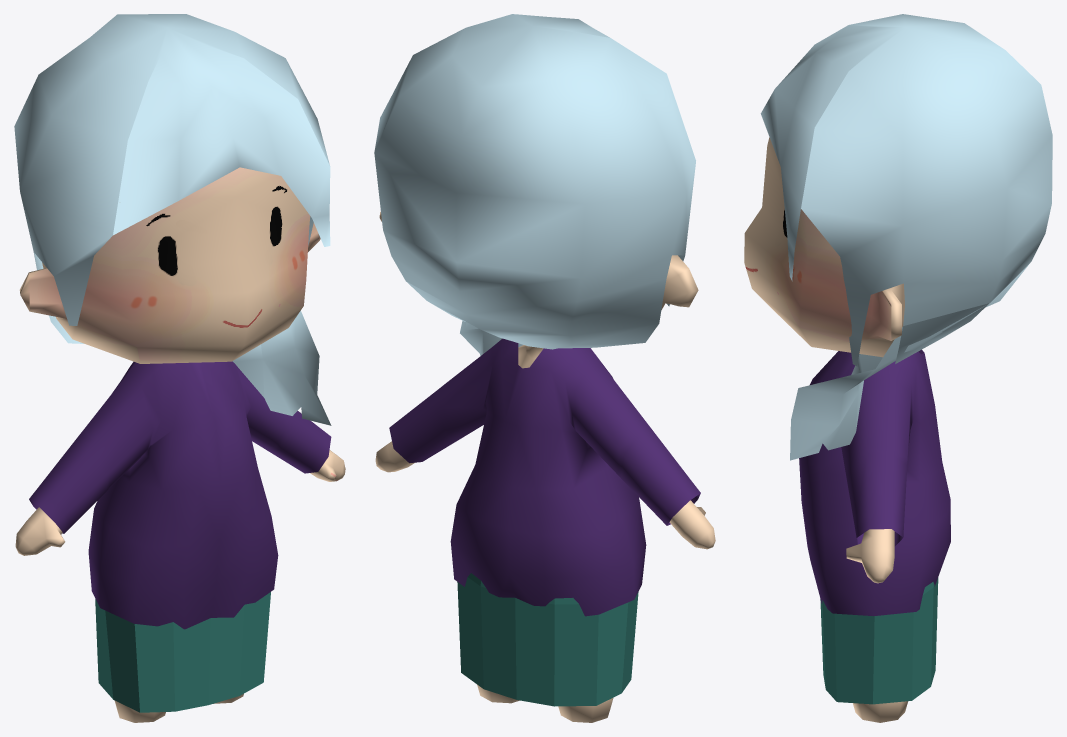
The model's file is mak.glb.
3 renders of one model, left to right at view 1: azimuth 30°, elevation 25°; view 2: azimuth 150°, elevation 25°; view 3: azimuth 270°, elevation 25°, orthographic. The views are drawn at different scales.
Parts seen in each view (by area): view 1: Chibi_base.012, Chibi_base.010, Chibi_base.011, Chibi_base.009; view 2: Chibi_base.012, Chibi_base.010, Chibi_base.009, Chibi_base.011; view 3: Chibi_base.012, Chibi_base.010, Chibi_base.011, Chibi_base.009.
Part boxes in pixels (x1,y1,x2,y2): Chibi_base.012: [14, 14, 331, 425]; Chibi_base.010: [29, 361, 331, 629]; Chibi_base.011: [15, 167, 345, 722]; Chibi_base.009: [95, 592, 270, 712]; Chibi_base.012: [374, 14, 695, 355]; Chibi_base.010: [389, 338, 700, 616]; Chibi_base.009: [457, 573, 638, 706]; Chibi_base.011: [375, 211, 715, 722]; Chibi_base.012: [760, 14, 1052, 460]; Chibi_base.010: [799, 349, 950, 616]; Chibi_base.011: [744, 137, 907, 722]; Chibi_base.009: [820, 577, 938, 704].
Bounding box in the file's own units: 1.68 × 3.3 × 1.37.
4 materials, 1 textured.
